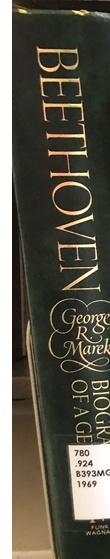call_number: (69, 445, 110, 517)
